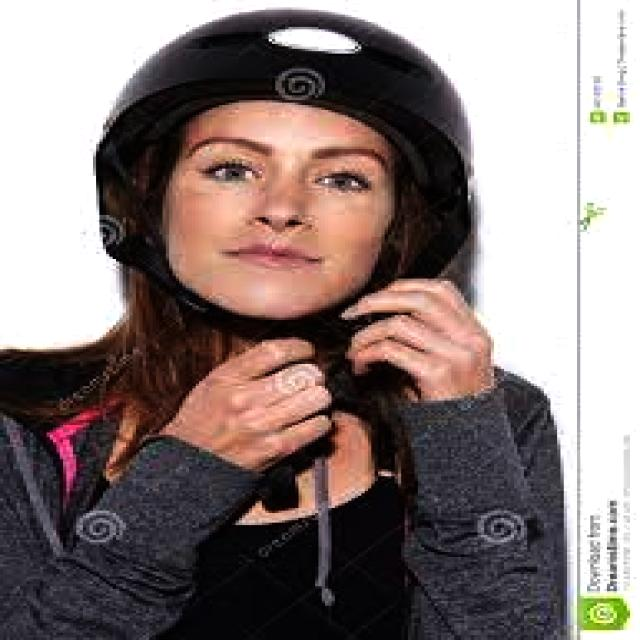helmet: (96, 10, 471, 274)
